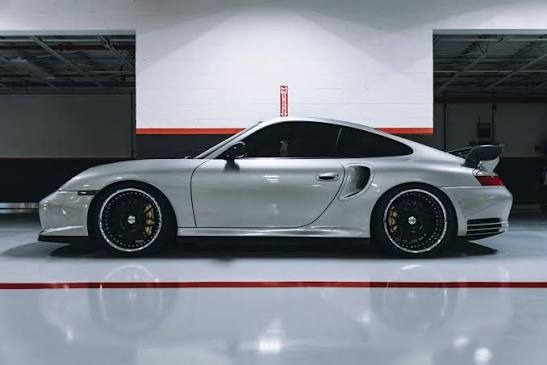car: (21, 121, 509, 255), (1, 22, 141, 216)
